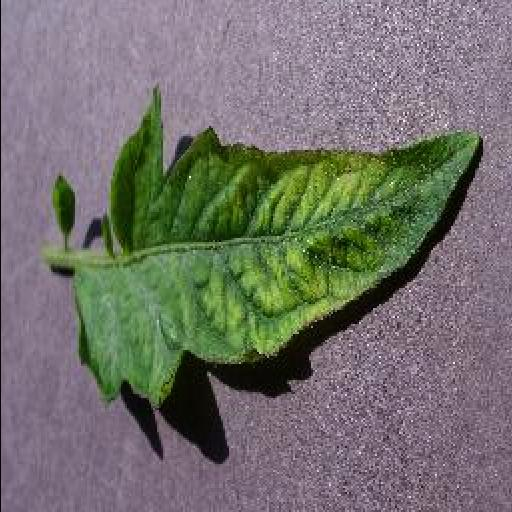disease_tomato: (74, 90, 482, 408)
